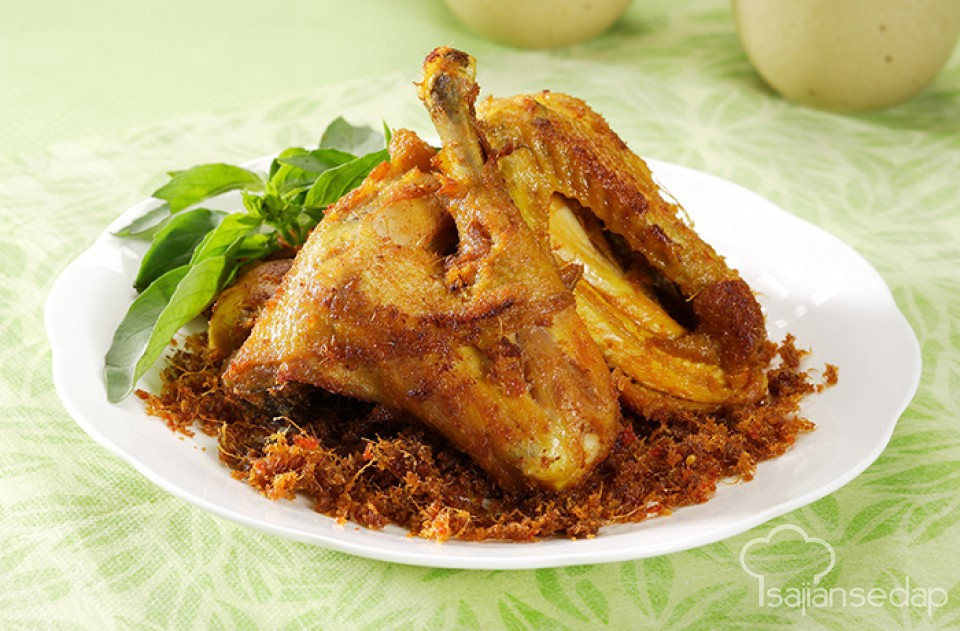Ayam: (238, 91, 753, 486)
